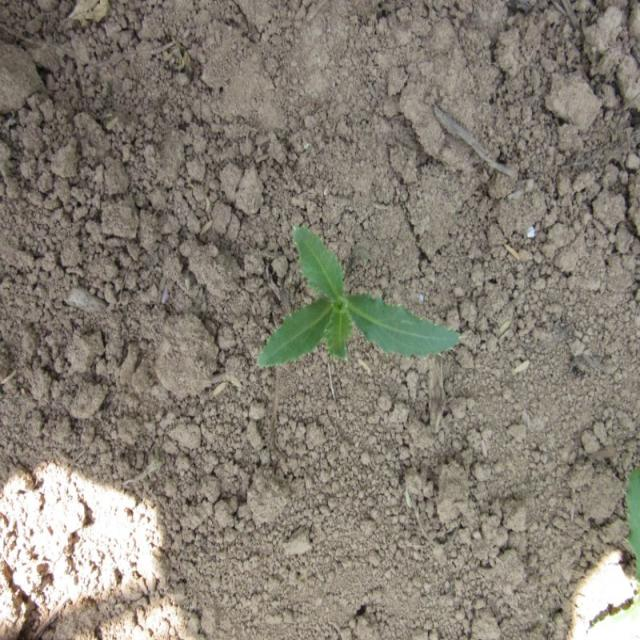field_thistle: (222, 216, 468, 390)
